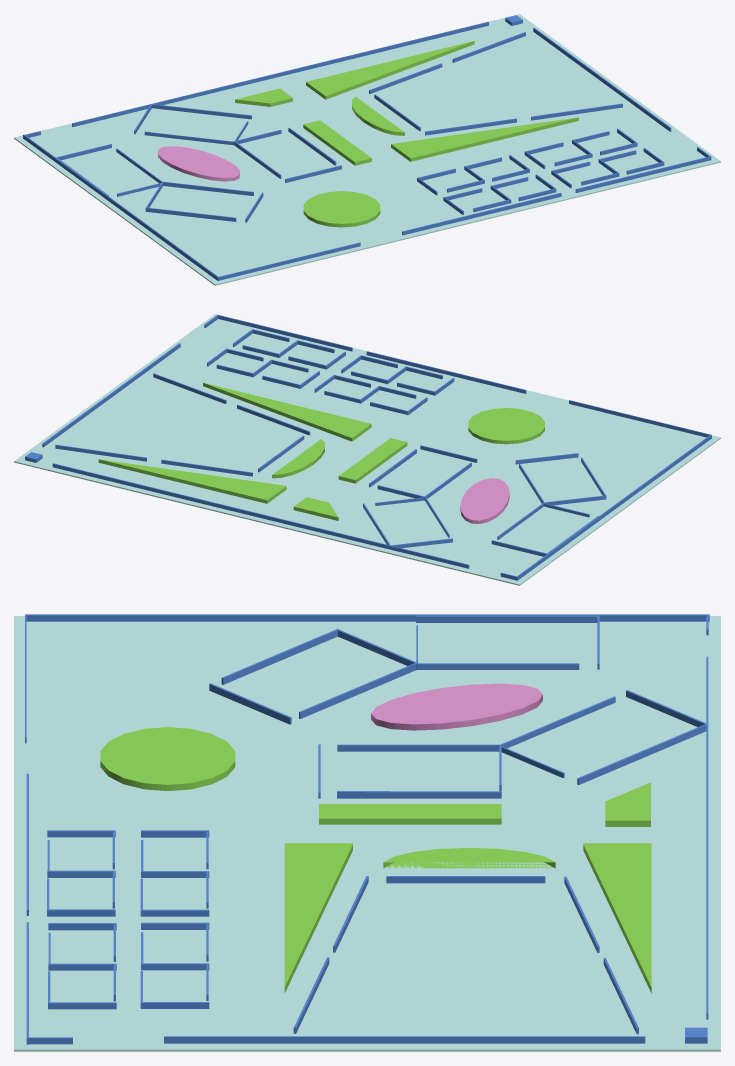
The model's file is Public.obj.
The picture shows the model from 3 angles, top to bottom: view 1: azimuth 30°, elevation 25°; view 2: azimuth 150°, elevation 25°; view 3: azimuth 270°, elevation 25°; orthographic projection. The views are drawn at different scales.
Parts seen in each view (by area): view 1: Box001, Box032, Box033, Cylinder001, Box005, Cylinder003, Box031, Box002, Cylinder004, Box070, Box066, Box030 (+6 smaller); view 2: Box001, Box033, Box032, Cylinder001, Box005, Cylinder003, Box031, Box002, Cylinder004, Box070, Box066, Box004 (+3 smaller); view 3: Box001, Cylinder001, Cylinder003, Box032, Box033, Box002, Box066, Box031, Cylinder004, Box030, Box019, Box029 (+9 smaller).
Part boxes in pixels (box(x1,y1,x2,y2)): Box001: box(14, 14, 720, 285); Box032: box(391, 117, 578, 161); Box033: box(306, 41, 474, 99); Cylinder001: box(303, 191, 380, 227); Box005: box(72, 22, 488, 126); Cylinder003: box(158, 146, 239, 181); Box031: box(303, 120, 371, 165); Box002: box(23, 134, 218, 280); Cylinder004: box(352, 96, 404, 135); Box070: box(402, 193, 561, 235); Box066: box(533, 27, 671, 131); Box030: box(235, 88, 292, 106); Box001: box(14, 314, 720, 585); Box033: box(98, 459, 286, 503); Box032: box(203, 382, 371, 441); Cylinder001: box(468, 408, 544, 444); Box005: box(52, 463, 469, 568); Cylinder003: box(460, 478, 509, 523); Box031: box(338, 438, 407, 483); Box002: box(516, 434, 711, 580); Cylinder004: box(272, 439, 324, 478); Box070: box(366, 351, 526, 393); Box066: box(42, 343, 180, 447); Box004: box(218, 315, 352, 351); Box001: box(14, 616, 720, 1051); Cylinder001: box(100, 727, 235, 790); Cylinder003: box(371, 683, 542, 730); Box032: box(284, 843, 352, 992); Box033: box(583, 843, 651, 993); Box002: box(25, 614, 709, 621); Box066: box(164, 1036, 645, 1043); Box031: box(319, 804, 501, 824); Cylinder004: box(383, 848, 555, 868); Box030: box(605, 782, 650, 826); Box019: box(416, 615, 597, 622); Box029: box(337, 791, 501, 798).
Size of the model in its own units: 4500 by 42.32 by 3100.
